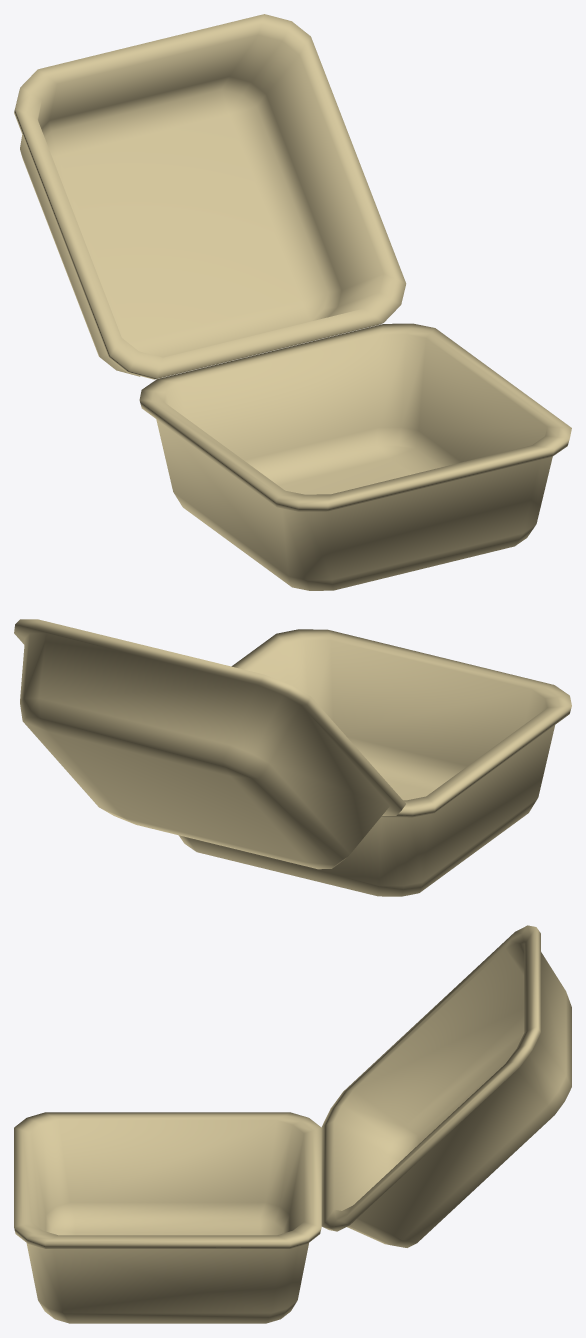
The model's file is FFHP_MOD_Food_box_open.fbx.
3 renders of one model, top to bottom at view 1: azimuth 30°, elevation 25°; view 2: azimuth 150°, elevation 25°; view 3: azimuth 270°, elevation 25°, orthographic. The views are drawn at different scales.
Parts seen in each view (by area): view 1: FFHP_MOD_Food_box_open; view 2: FFHP_MOD_Food_box_open; view 3: FFHP_MOD_Food_box_open.
Part boxes in pixels (bbox=[...]): FFHP_MOD_Food_box_open: bbox=[14, 14, 571, 590]; FFHP_MOD_Food_box_open: bbox=[14, 619, 571, 896]; FFHP_MOD_Food_box_open: bbox=[14, 925, 571, 1323].
Bounding box in the file's own units: 0.2368 × 0.2534 × 0.4295.
